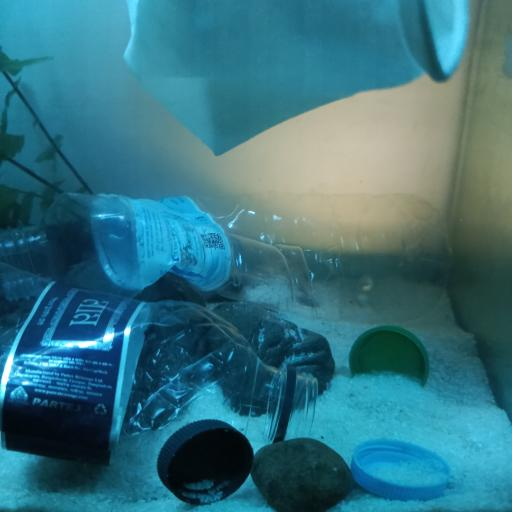bottle_cap: (158, 418, 252, 504), (353, 439, 452, 496), (351, 326, 428, 381)
glove: (121, 0, 469, 158)
plastic_bottle: (0, 263, 319, 468), (0, 185, 457, 320)
